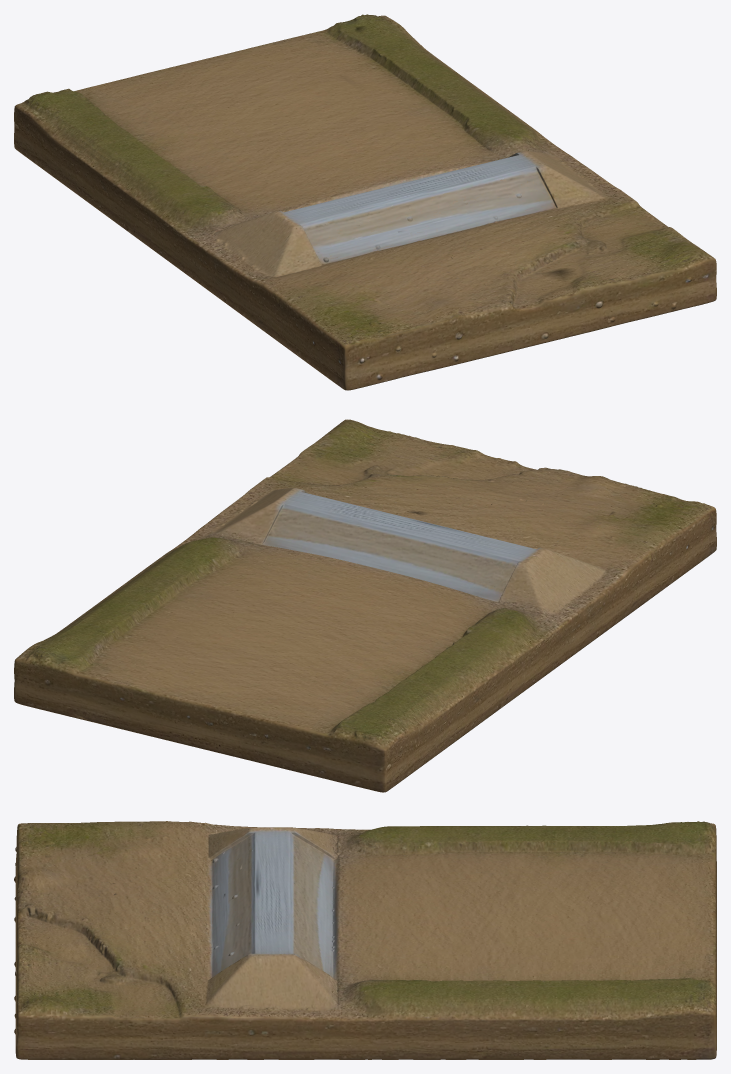
3 views of the same model, one above another, from view 1: azimuth 30°, elevation 25°; view 2: azimuth 150°, elevation 25°; view 3: azimuth 270°, elevation 25° (orthographic). The views are drawn at different scales.
Parts seen in each view (by area): view 1: node_0; view 2: node_0; view 3: node_0.
Boxes of the visible parts, box(x1,y1,x2,y2) form: node_0: box(14, 14, 716, 390); node_0: box(14, 419, 716, 792); node_0: box(14, 821, 716, 1059).
Size of the model in its own units: 0.6535 by 0.1176 by 1.01.
1 material, 1 textured.
